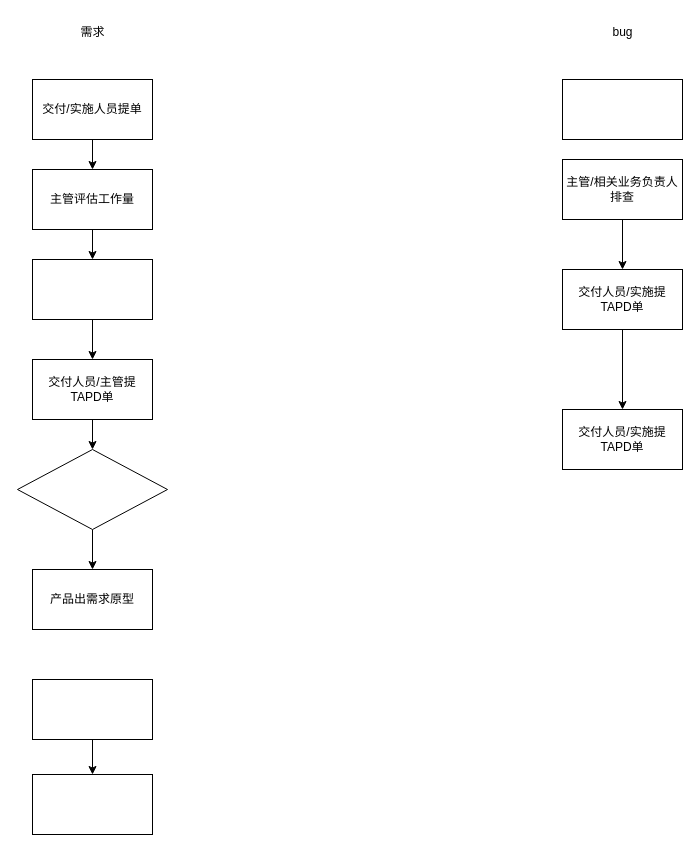
The diagram is 700 pixels wide and 852 high, and some of its shapes have lost their labels. The centre of each missing label's shape, as x and y in pixels:
主管调配资源流转单: the point at 92,709
交付/实施人员提出问题: the point at 622,109
批准: the point at 92,289
需要产品介入: the point at 92,489
